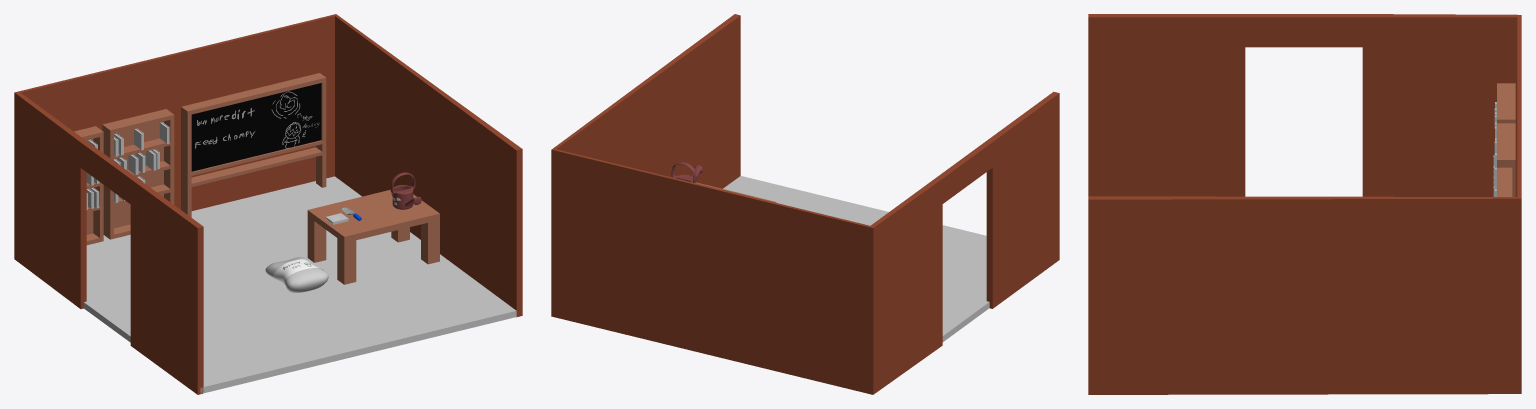
File: PlantShop.fbx
3 renders of one model, left to right at view 1: azimuth 30°, elevation 25°; view 2: azimuth 150°, elevation 25°; view 3: azimuth 270°, elevation 25°, orthographic. The views are drawn at different scales.
Parts seen in each view (by area): view 1: WallDoor, Floor, ChalkBoard, Table, BookShelf, Book.001, Label, Watering can, Fertilizer; view 2: WallDoor, Floor; view 3: WallDoor, BookShelf, ChalkBoard.
Part boxes in pixels (left/top/right/bottom): WallDoor: left=14, top=14, right=522, bottom=394; Floor: left=83, top=176, right=516, bottom=393; ChalkBoard: left=181, top=73, right=326, bottom=217; Table: left=307, top=189, right=439, bottom=284; BookShelf: left=74, top=109, right=174, bottom=245; Book.001: left=86, top=122, right=169, bottom=209; Label: left=265, top=257, right=328, bottom=292; Watering can: left=390, top=172, right=421, bottom=209; Fertilizer: left=273, top=259, right=323, bottom=288; WallDoor: left=551, top=14, right=1059, bottom=394; Floor: left=723, top=176, right=989, bottom=341; WallDoor: left=1088, top=14, right=1521, bottom=394; BookShelf: left=1497, top=83, right=1515, bottom=196; ChalkBoard: left=1497, top=167, right=1512, bottom=196.
Size of the model in its own units: 4075 by 2001 by 4019.
